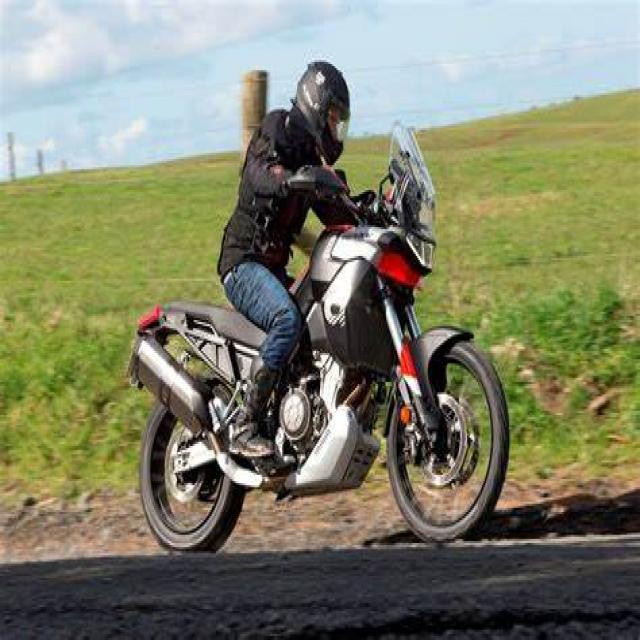helmet: (287, 55, 353, 169)
